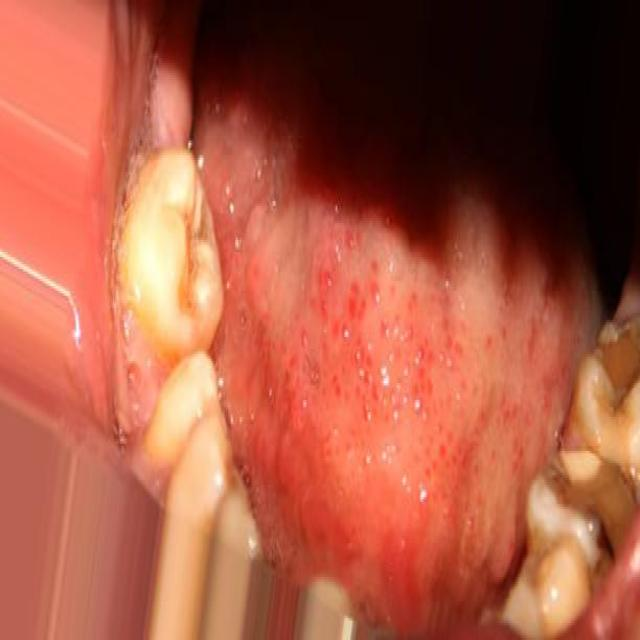caries: (533, 459, 639, 568), (581, 310, 640, 451)
